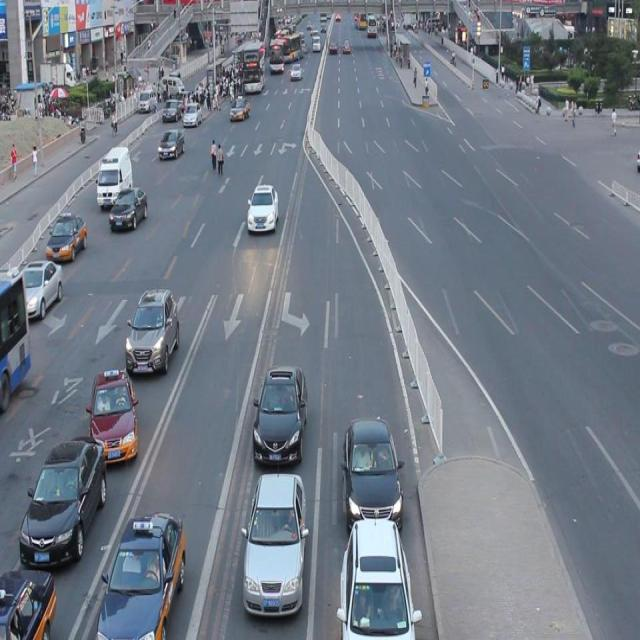car: (93, 498, 186, 640), (19, 427, 106, 558), (337, 505, 417, 640), (241, 458, 306, 606), (342, 401, 403, 519), (250, 353, 308, 456), (123, 276, 180, 366), (88, 358, 139, 456), (0, 554, 56, 640), (19, 257, 62, 321), (46, 211, 88, 261), (109, 186, 148, 230), (246, 182, 278, 233)
truck: (97, 144, 134, 208)
van: (1, 270, 31, 408)
